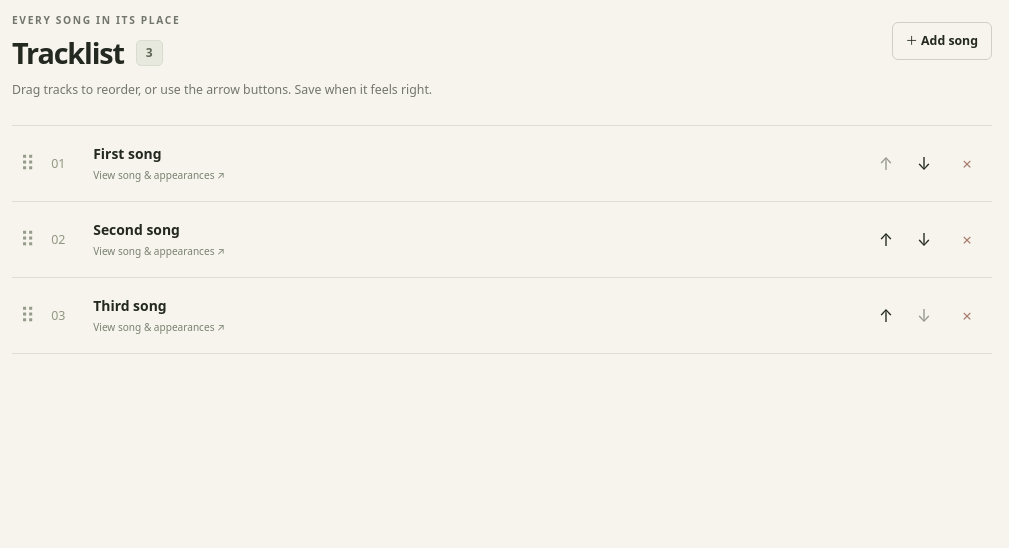
Test: tracklist mutation recovery › keeps the reload action when cancelling a draft after a revision conflict
This screenshot has width=1009, height=548.
Click the button named "Move First song down" at (924, 163), box x1=907 y1=145 x2=941 y2=181
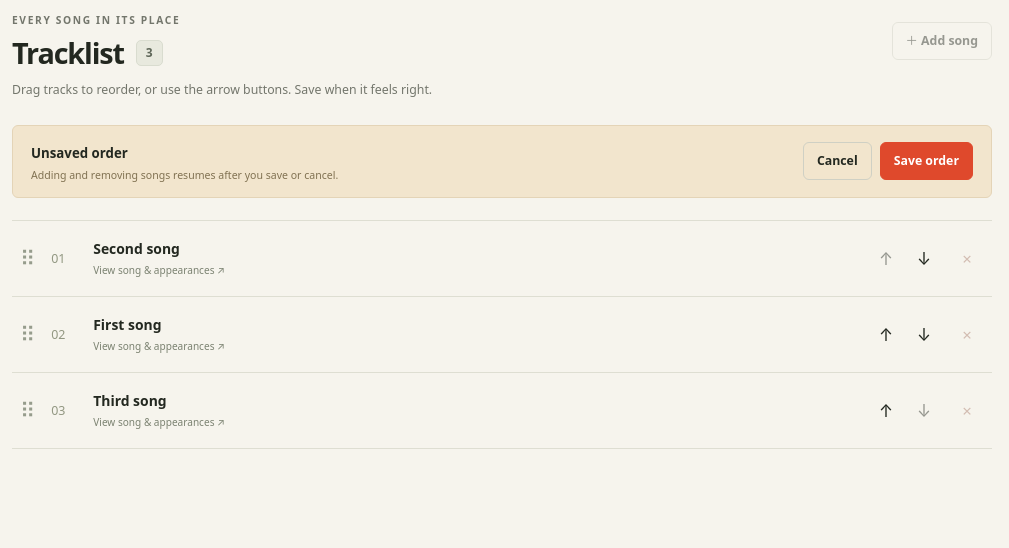
Click the button "Save order" at (926, 161), box x1=880 y1=142 x2=973 y2=180
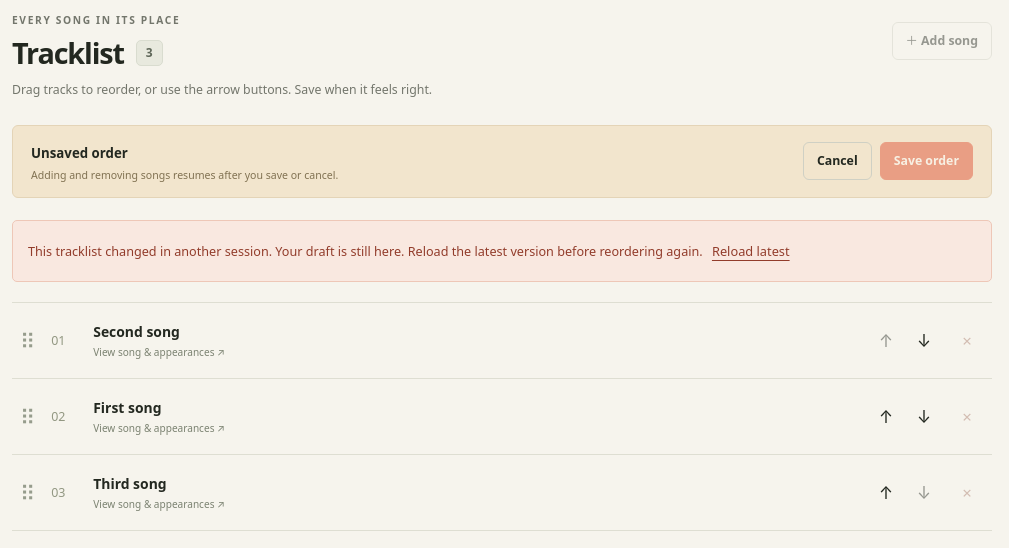
Click the button "Cancel" at (837, 161), box x1=803 y1=142 x2=872 y2=180
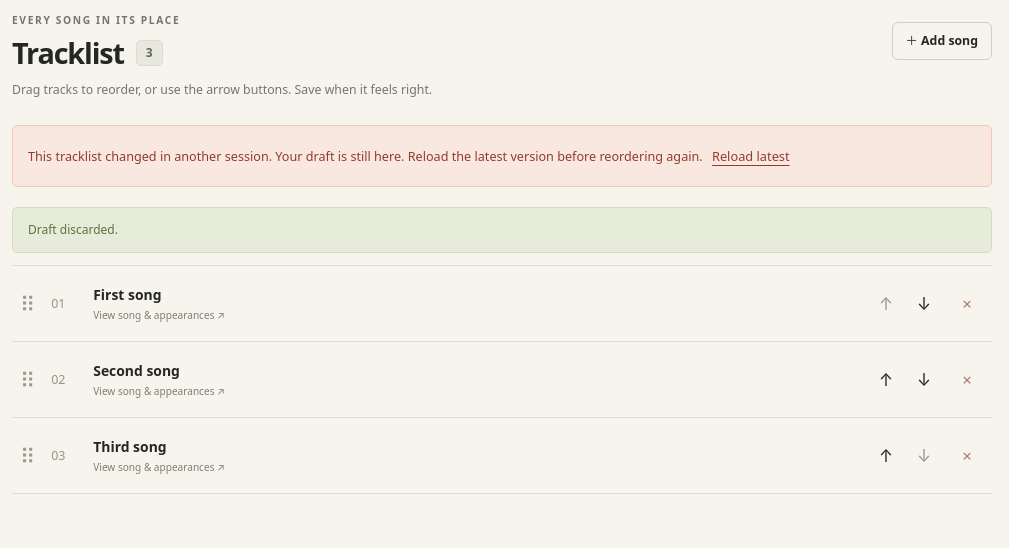
Check: the text "Reload latest" is shown, box x1=712 y1=138 x2=790 y2=174
Check: the text "Unsaved order" is gone
Click the button named "Move First song down" at (924, 304), box x1=907 y1=286 x2=941 y2=322
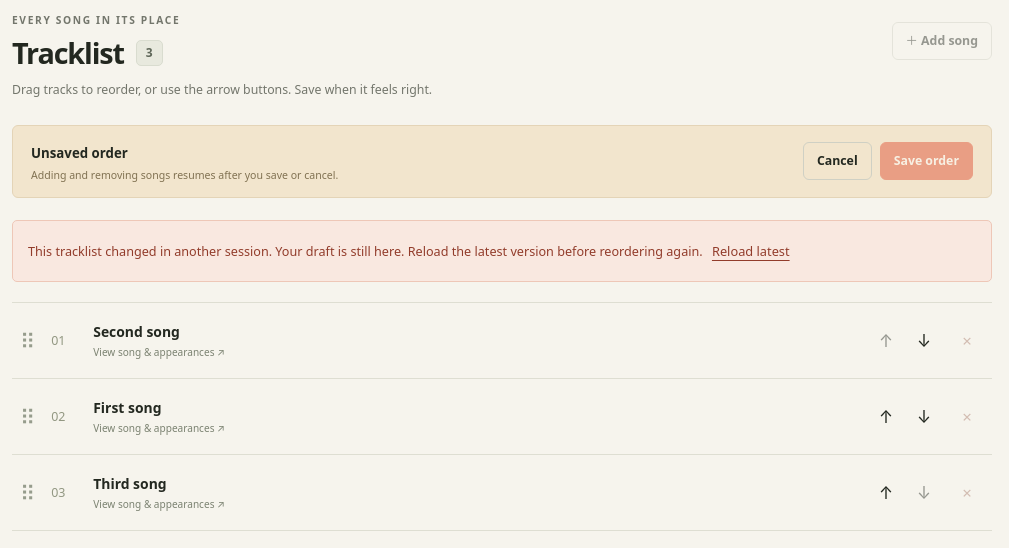
Check: the button "Save order" is disabled, box x1=880 y1=142 x2=973 y2=180
